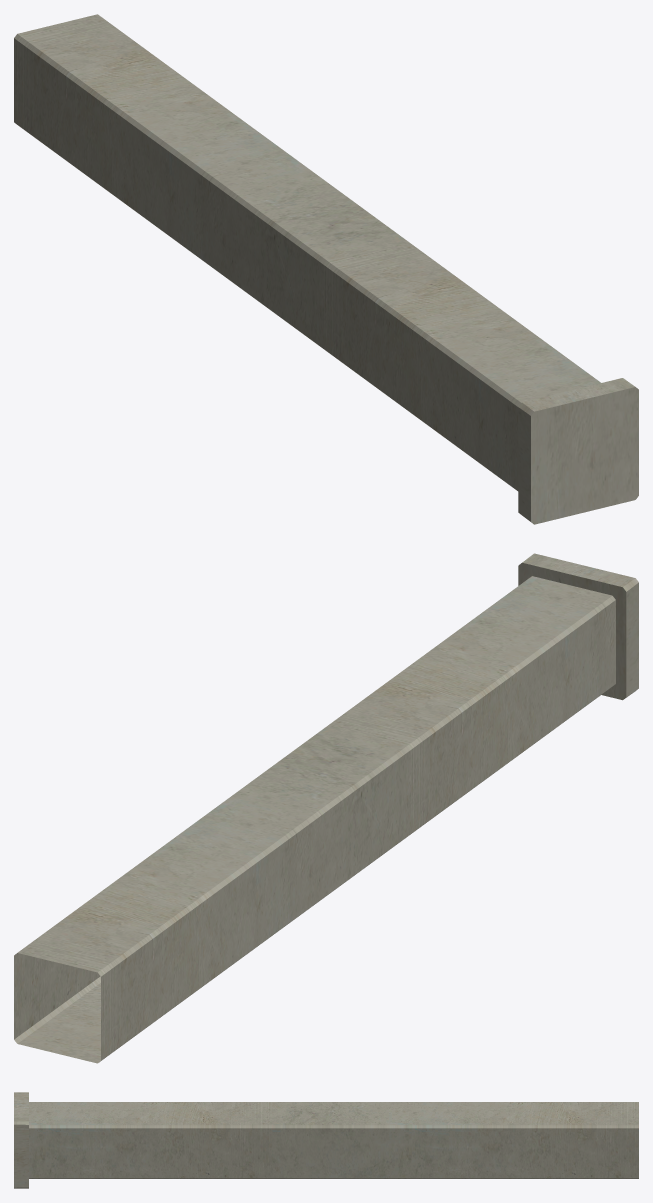
File: nt_concrete_fence_post_tall02_LOD0.obj
The picture shows the model from 3 angles, top to bottom: view 1: azimuth 30°, elevation 25°; view 2: azimuth 150°, elevation 25°; view 3: azimuth 270°, elevation 25°; orthographic projection. The views are drawn at different scales.
Parts seen in each view (by area): view 1: nt_conrete_fence_post; view 2: nt_conrete_fence_post; view 3: nt_conrete_fence_post.
Part boxes in pixels (x1,y1,x2,y2): nt_conrete_fence_post: (14, 14, 638, 524); nt_conrete_fence_post: (14, 553, 638, 1063); nt_conrete_fence_post: (14, 1092, 638, 1188).
Size of the model in its own units: 25.22 by 25.22 by 213.
